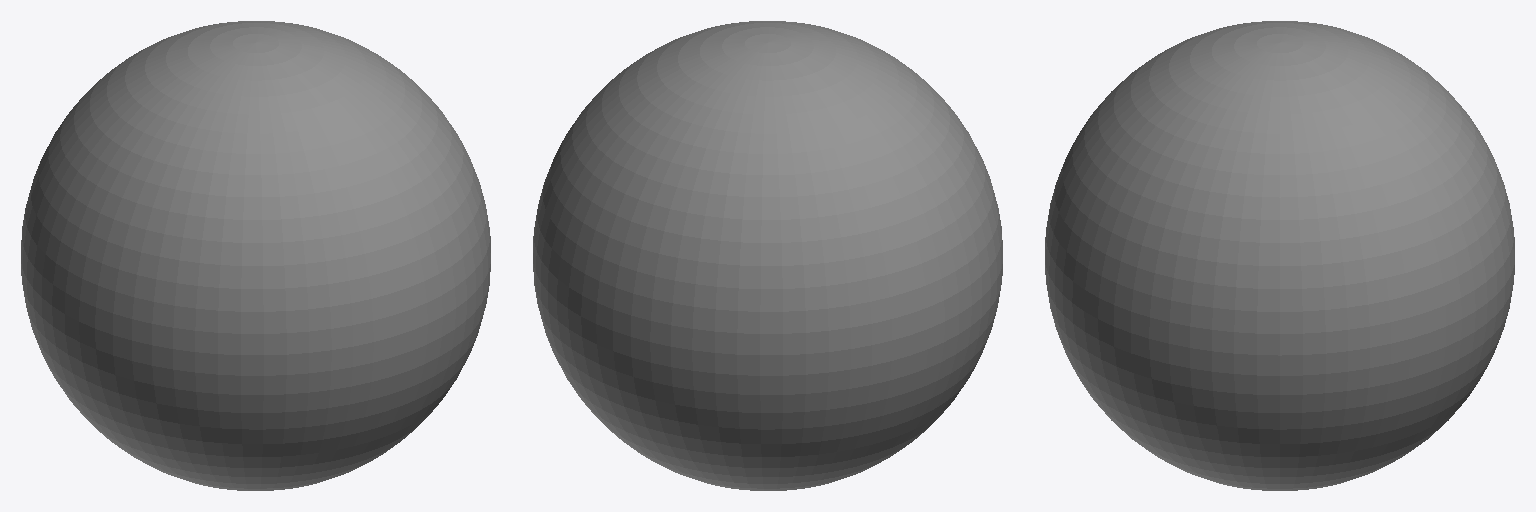
The model's file is TheMoon.obj.
3 renders of one model, left to right at view 1: azimuth 30°, elevation 25°; view 2: azimuth 150°, elevation 25°; view 3: azimuth 270°, elevation 25°, orthographic.
Parts seen in each view (by area): view 1: Moon_meshId0_name; view 2: Moon_meshId0_name; view 3: Moon_meshId0_name.
Part boxes in pixels (x1,y1,x2,y2): Moon_meshId0_name: (21, 21, 490, 490); Moon_meshId0_name: (533, 21, 1002, 490); Moon_meshId0_name: (1045, 21, 1514, 490).
Size of the model in its own units: 2 by 2 by 2.